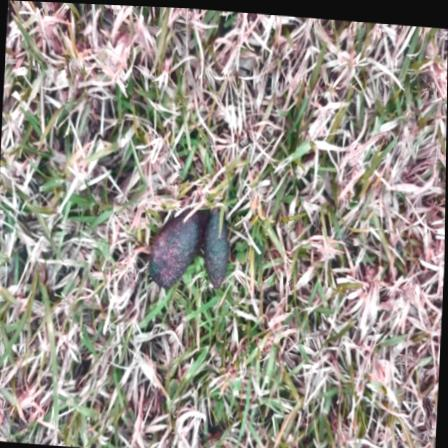dog-poop: (144, 196, 242, 298)
